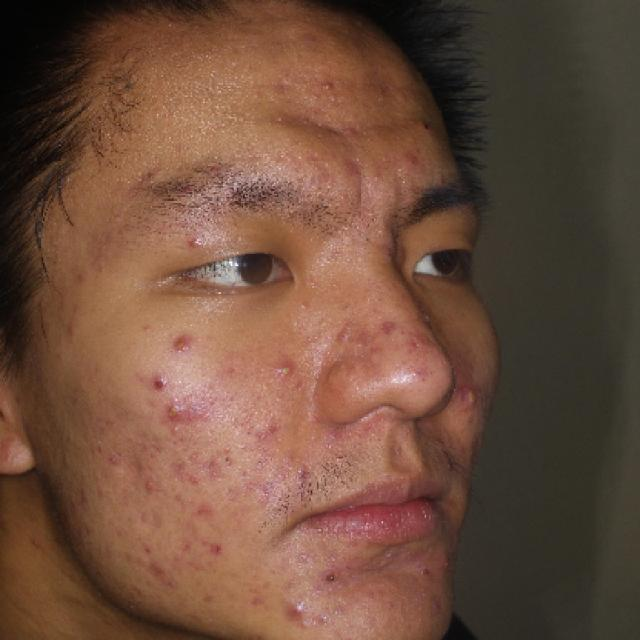Acne: (266, 345, 306, 389), (278, 594, 322, 626), (152, 397, 195, 429), (165, 329, 197, 363), (460, 378, 486, 414)
Whiteheads: (314, 74, 341, 98), (294, 294, 315, 323)
